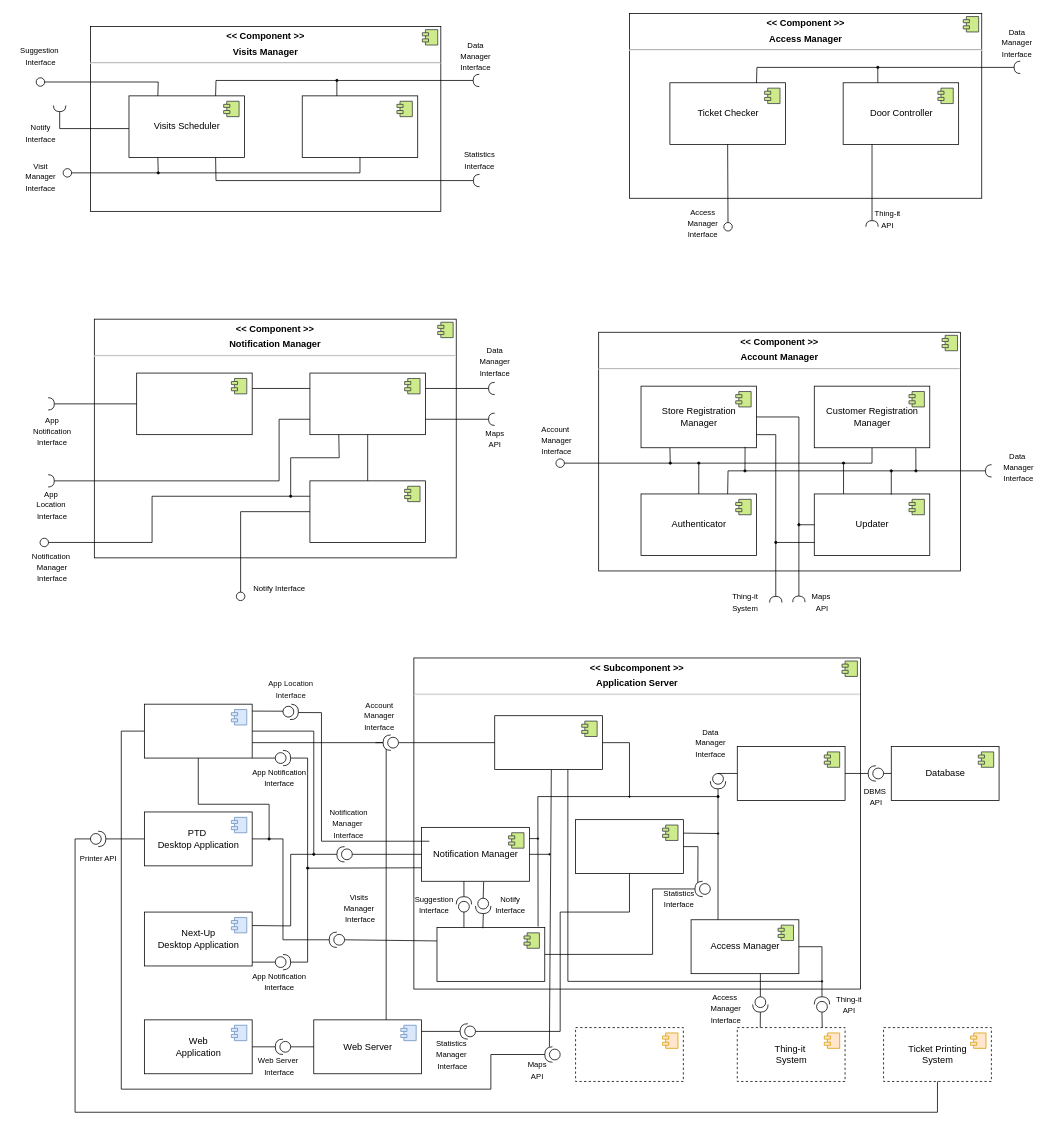
Image size: 1050x1127. Some labels were removed from this diagram. The shapes that lost their labels are listed below. From the top down, each one's centre as x and y in pixels, then its label:
At [359,126]: "Waiting Time Estimator".
At [194,403]: "Notification sender".
At [367,403]: "Events Listener".
At [367,511]: "Notification Planner".
At [198,730]: "Mobile Application".
At [548,742]: "Account Manager".
At [791,773]: "Data Manager".
At [629,846]: "Statistics Manager".
At [490,954]: "Visits Manager".
At [629,1054]: "Google Maps System".
